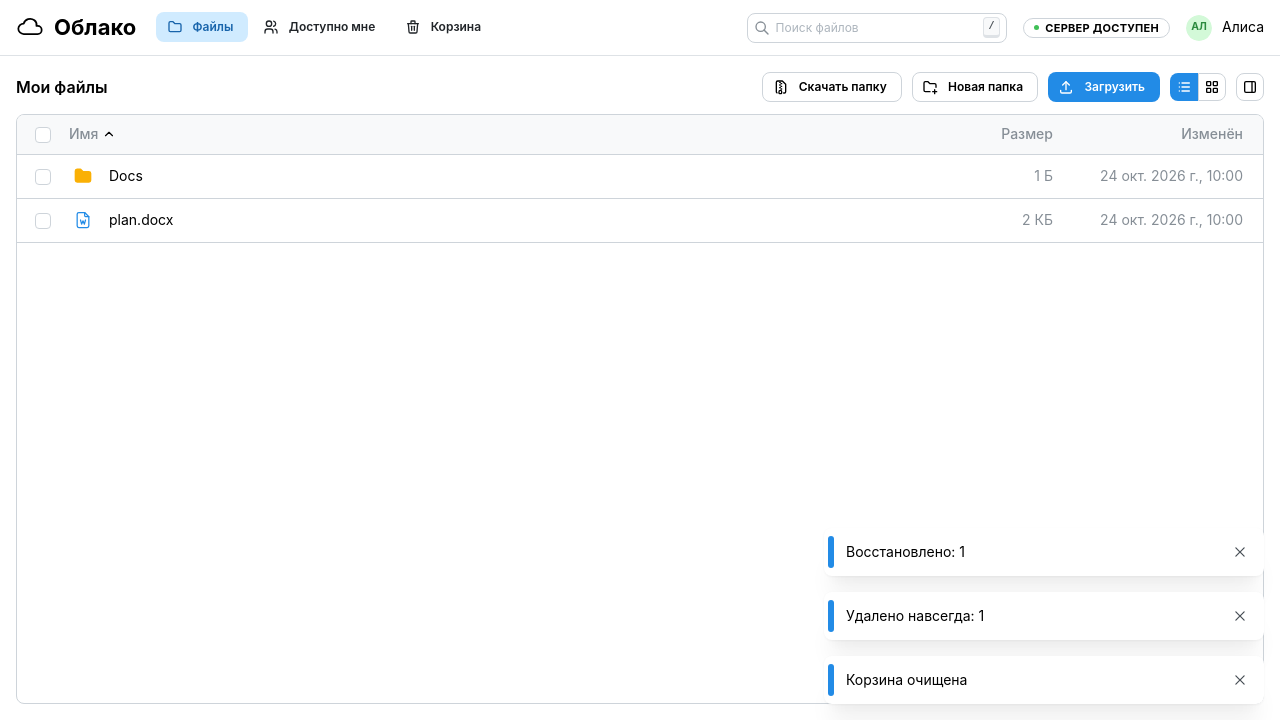
Test: VersionsDialog › shows a file's history and restores a version
The width and height of the screenshot is (1280, 720).
Step 1. Click the option that starts with "Docs" → (126, 176), box [17,155,1263,199]
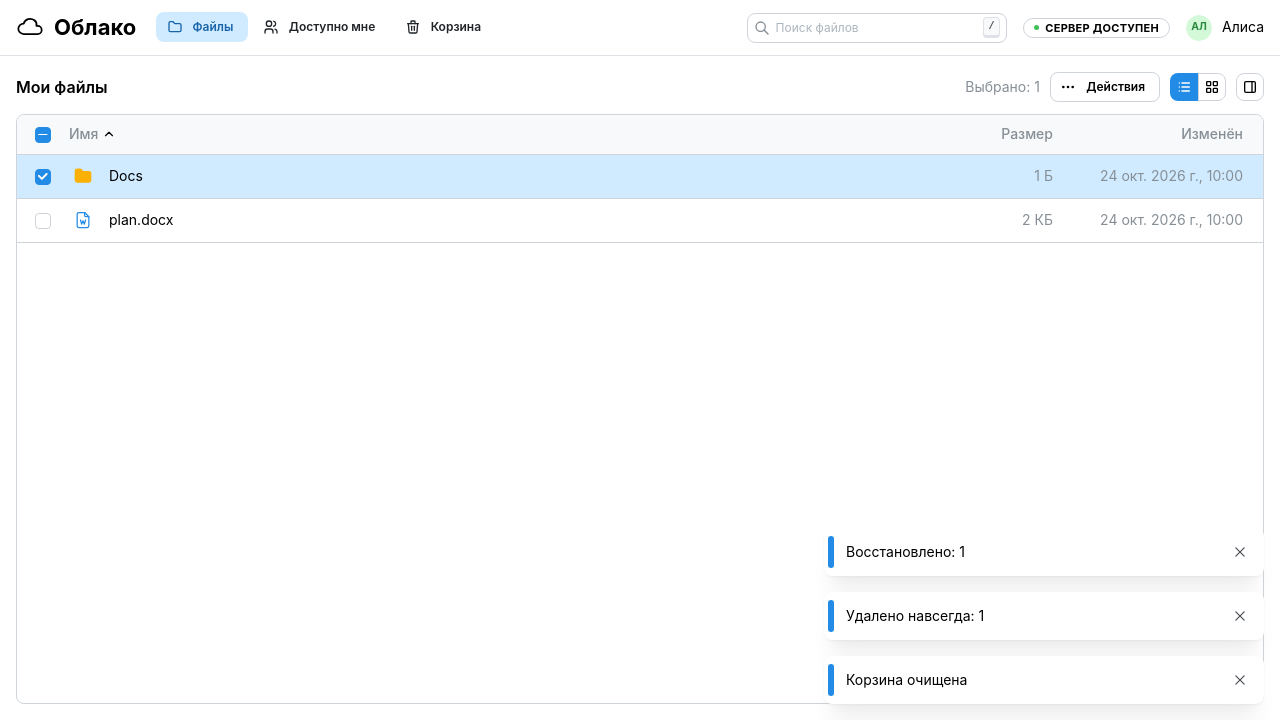
Step 2. Click the button "Действия" → (1105, 87), box [1050,72,1160,102]
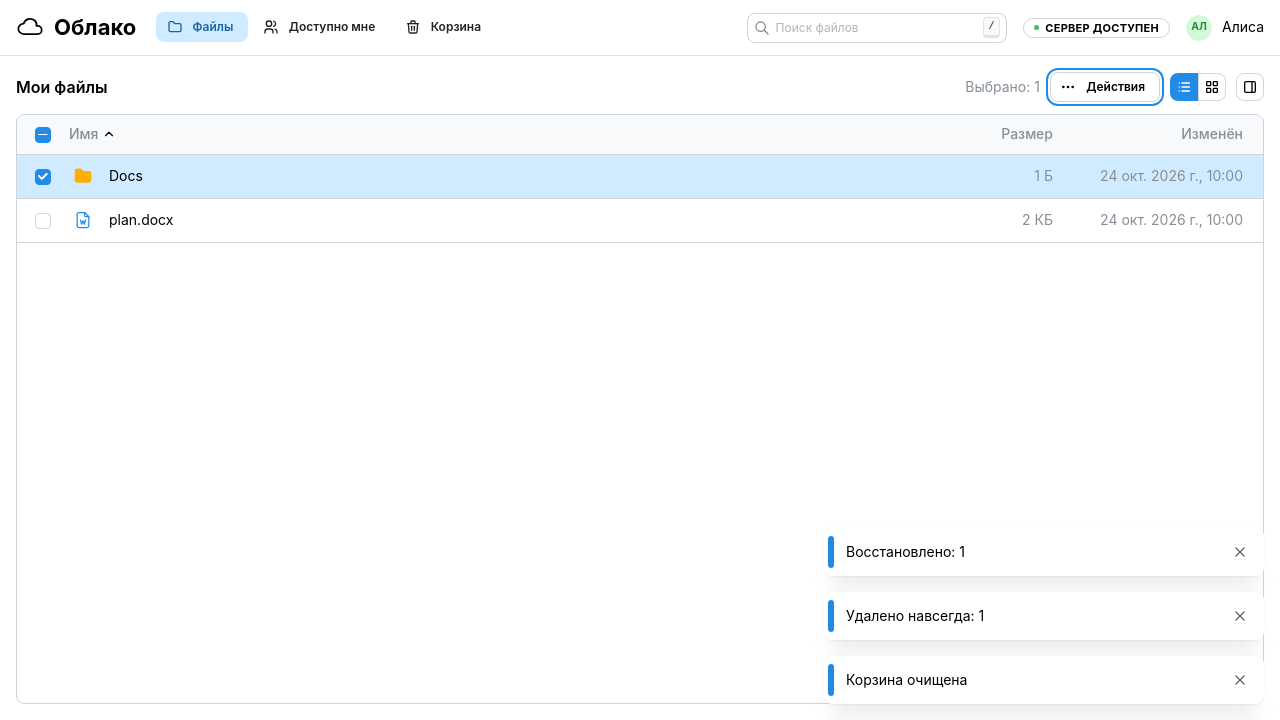
Check: the menu item "Версии" is not shown
Step 3. Click the option that starts with "plan.docx" → (141, 220), box [17,199,1263,243]
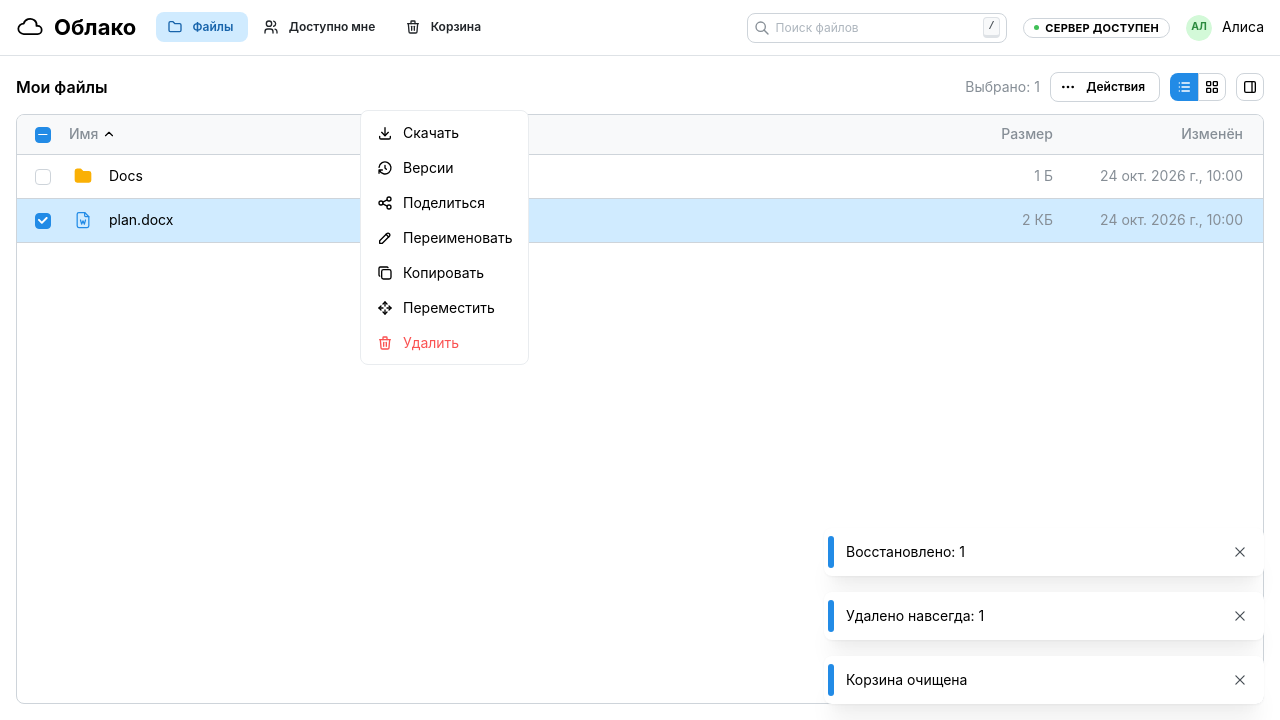
Step 4. Click the menu item "Версии" → (445, 168), box [365,150,524,185]
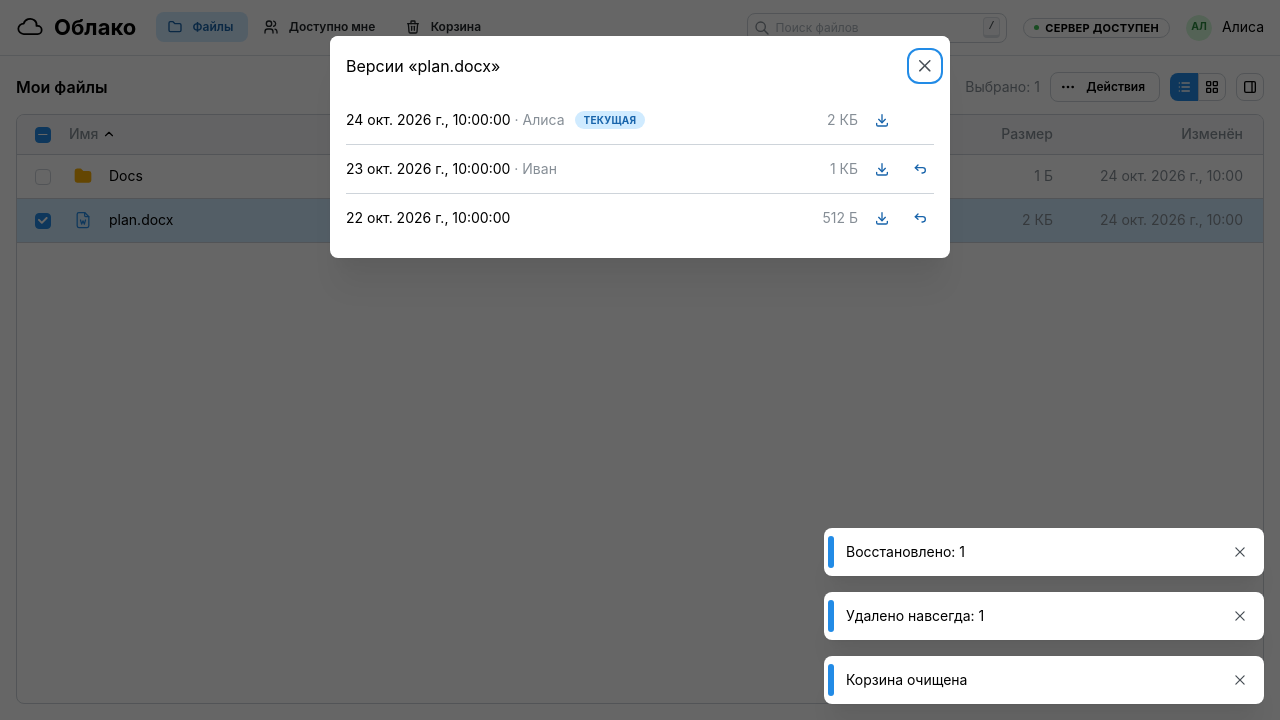
Check: the text "Текущая" is shown, box [584,112,636,128]
Check: the text "512 Б" is shown, box [822,208,858,228]
Check: the text "· Алиса" is shown, box [511,111,564,128]
Step 5. Click the button named "Восстановить версию от" → (920, 218), box [906,204,934,232]
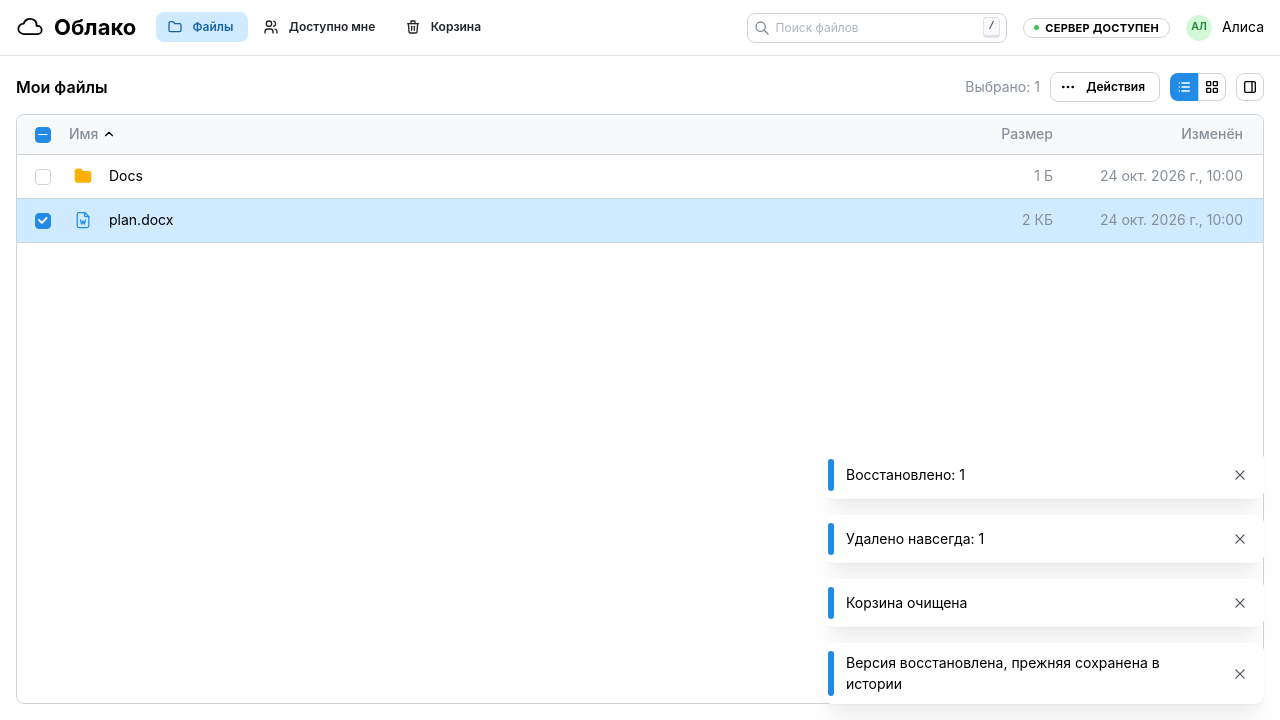
Check: the text "Версия восстановлена, прежняя сохранена в истории" is shown, box [846,654,1160,692]
